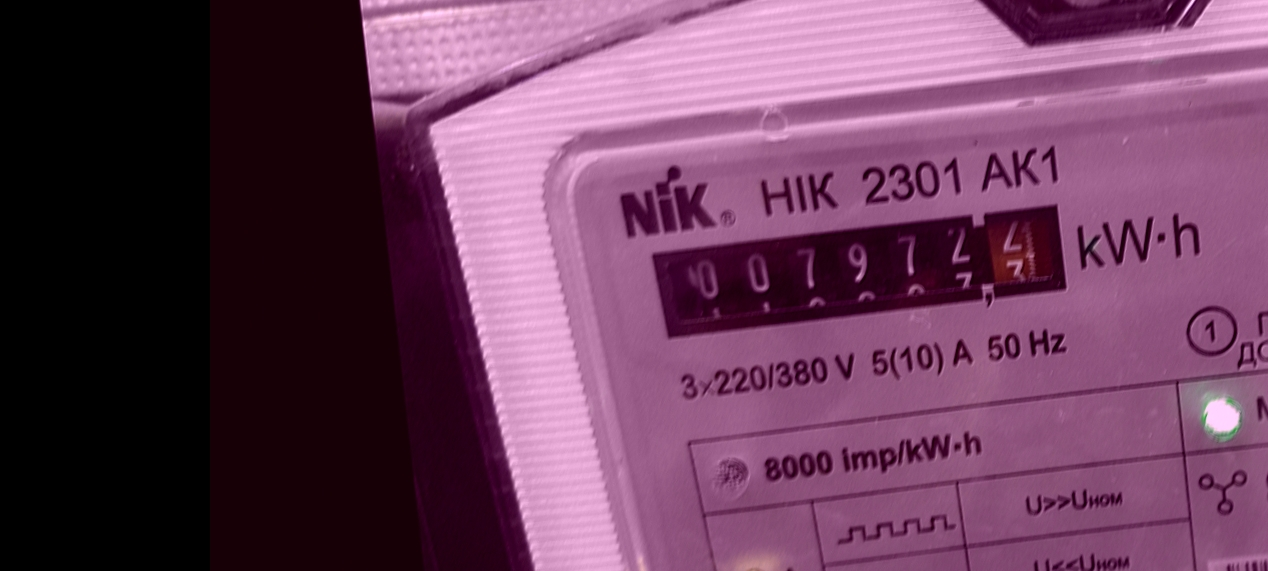0: (692, 257, 723, 301), (744, 250, 772, 295)
2: (945, 225, 973, 266), (997, 220, 1023, 256)
3: (1003, 257, 1027, 284)
7: (893, 232, 924, 280), (793, 244, 822, 292)
9: (844, 239, 870, 285)
screen: (634, 191, 1086, 355)
